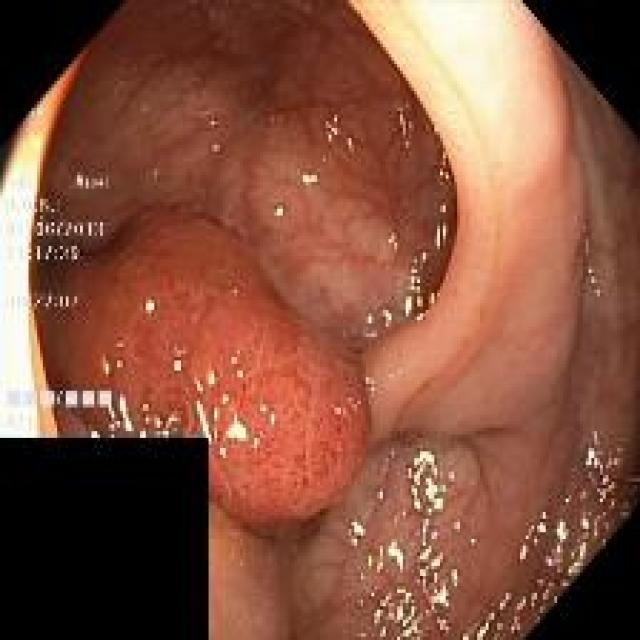Polyps: (38, 208, 370, 528)
